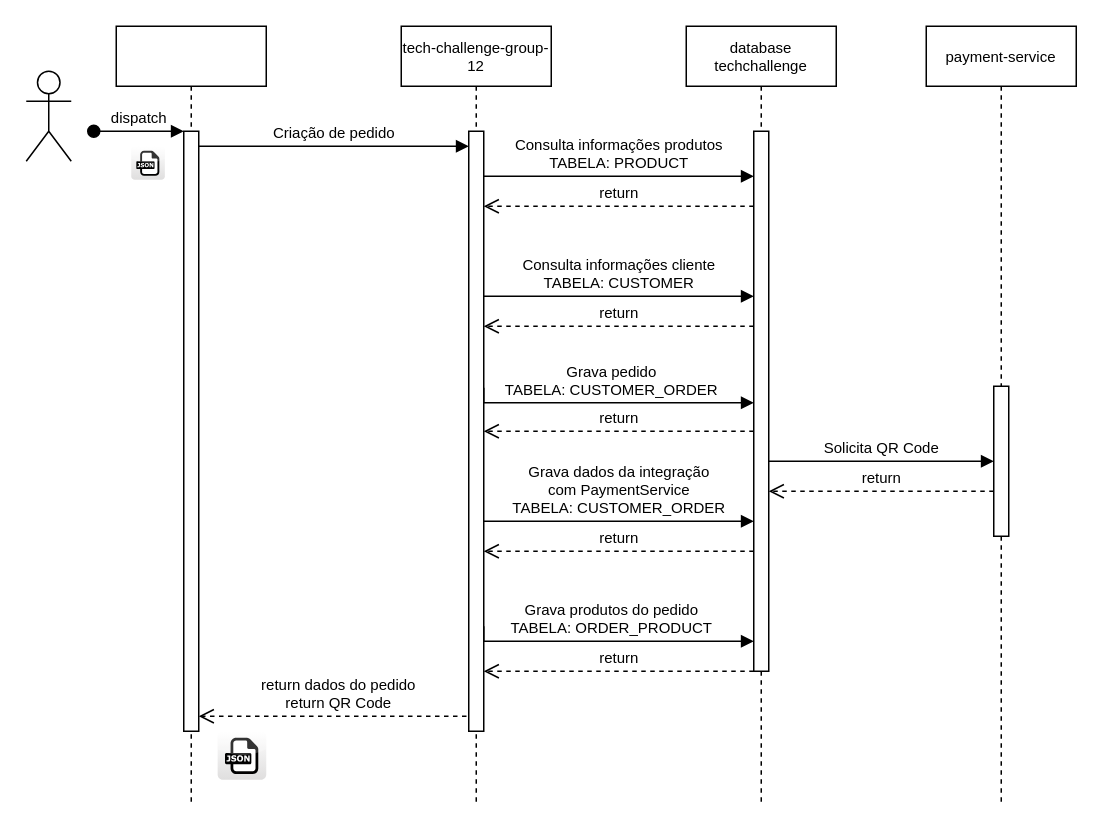
The diagram is 1103 pixels wide and 833 high, and some of its shapes have lost their labels. Here are the shapes that lost their labels. From the top down, the box of each, then its label:
(25, 70, 71, 161): Actor
(115, 25, 266, 806): client
